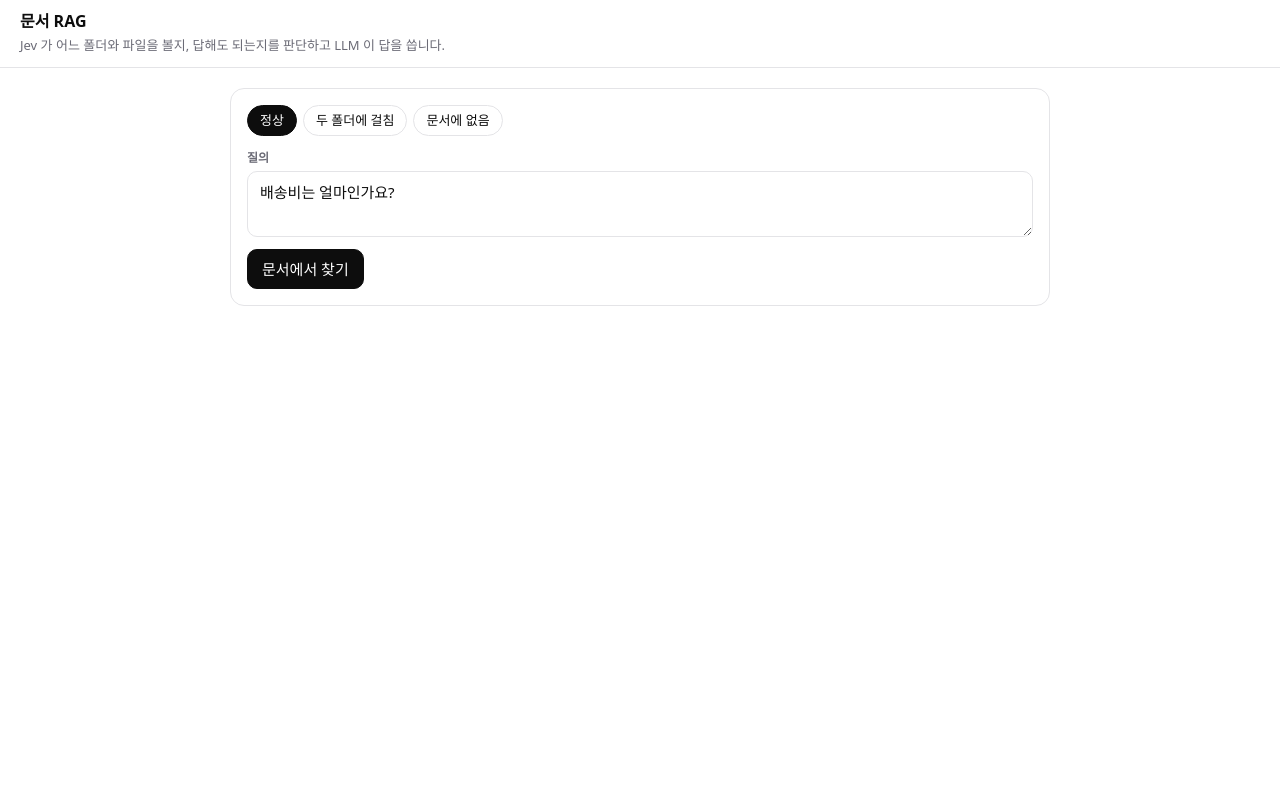
RagTab › should render markup-like text literally
What coordinates should you click on to do the following:
click the button "문서에서 찾기"
I would click on:
 (305, 269)
Its box is x1=247 y1=249 x2=364 y2=289.
(page scrolled)
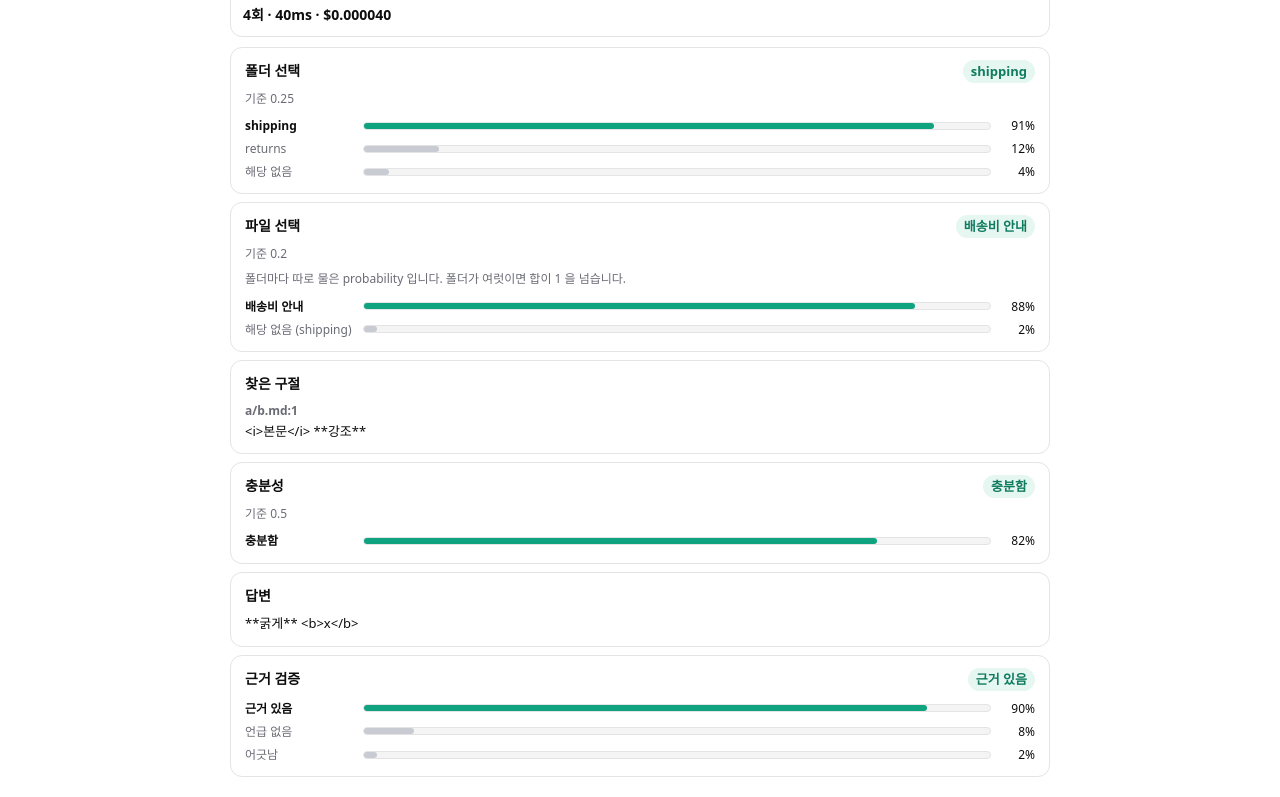
Expected: the text "**굵게** <b>x</b>" is shown, x1=245 y1=614 x2=358 y2=632
Expected: the text "<i>본문</i> **강조**" is shown, x1=245 y1=422 x2=366 y2=440
